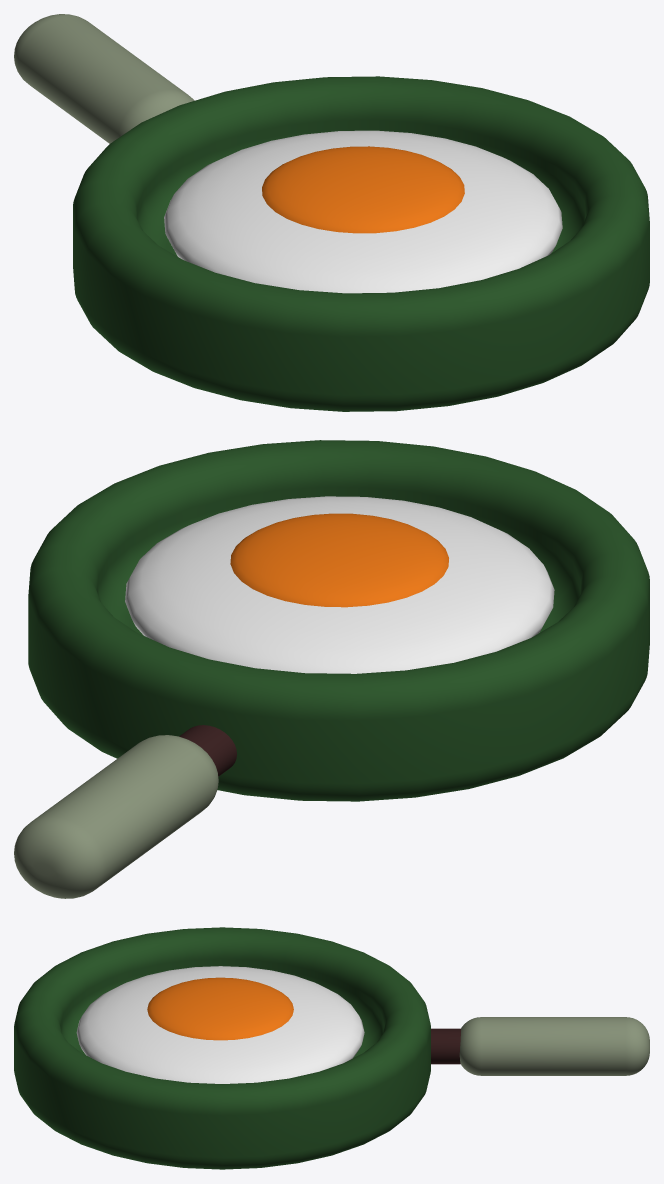
The model's file is 01_fired_egg.glb.
3 renders of one model, top to bottom at view 1: azimuth 30°, elevation 25°; view 2: azimuth 150°, elevation 25°; view 3: azimuth 270°, elevation 25°, orthographic. The views are drawn at different scales.
Parts seen in each view (by area): view 1: 円柱, 球, 球.002, 円柱.001; view 2: 円柱, 球, 円柱.001, 球.002, 円柱.002; view 3: 円柱, 球, 円柱.001, 球.002, 円柱.002.
Part boxes in pixels (left/top/right/bottom): 円柱: left=73, top=76, right=649, bottom=411; 球: left=164, top=130, right=562, bottom=293; 球.002: left=262, top=146, right=464, bottom=233; 円柱.001: left=14, top=14, right=194, bottom=143; 円柱: left=28, top=440, right=649, bottom=801; 球: left=125, top=496, right=554, bottom=673; 円柱.001: left=14, top=735, right=218, bottom=898; 球.002: left=230, top=513, right=448, bottom=607; 円柱.002: left=179, top=725, right=236, bottom=776; 円柱: left=14, top=927, right=430, bottom=1169; 球: left=76, top=966, right=364, bottom=1083; 円柱.001: left=459, top=1017, right=649, bottom=1075; 球.002: left=147, top=977, right=293, bottom=1040; 円柱.002: left=431, top=1028, right=460, bottom=1064.
Size of the model in its own units: 2 by 0.4788 by 3.05.
